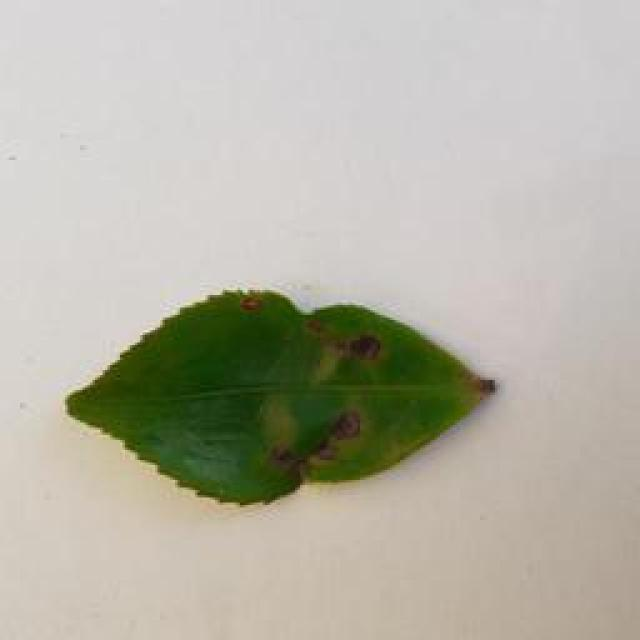Helopeltis: (61, 280, 522, 524)
